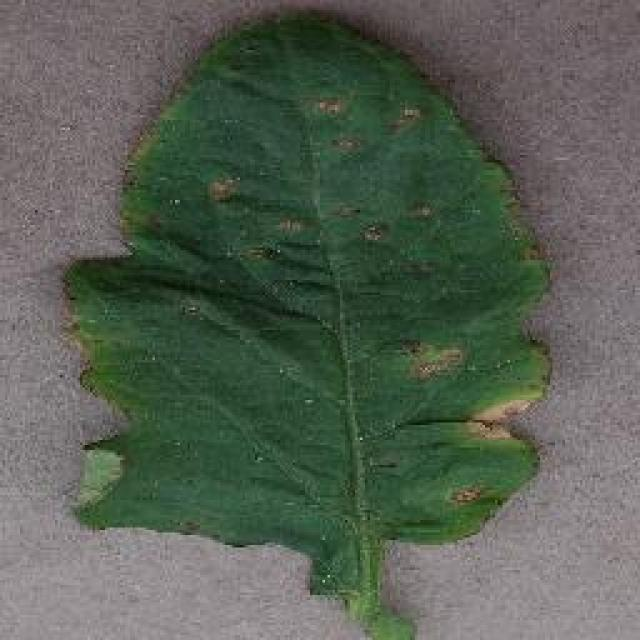Tomato bacterial spot leaf: (60, 4, 555, 558)
